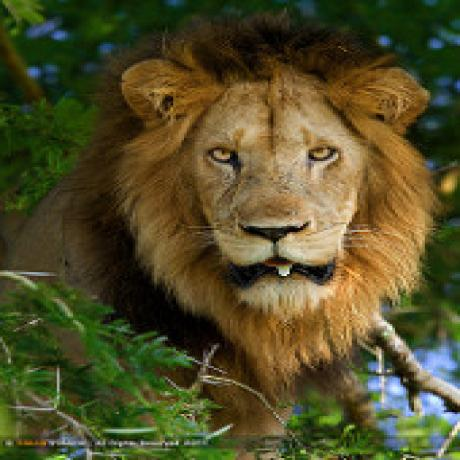Lion: (0, 5, 436, 460)
